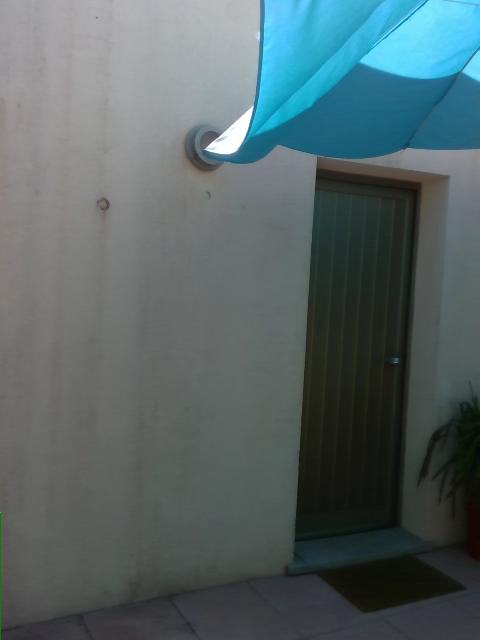door: (290, 158, 449, 562)
